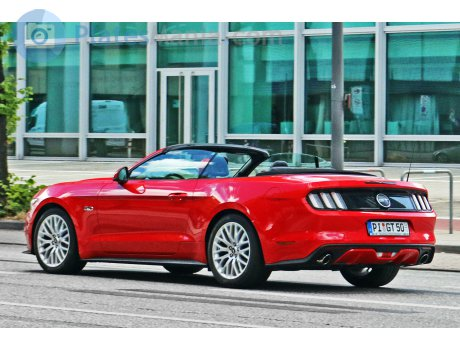License Plates: (369, 222, 408, 232)
